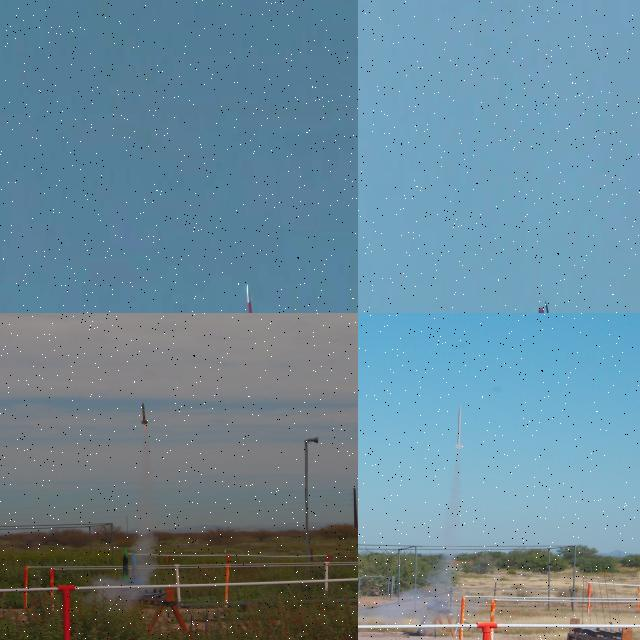Rocket: (129, 552, 146, 586), (454, 405, 465, 451), (120, 547, 133, 582), (246, 283, 260, 313), (141, 402, 148, 426)
